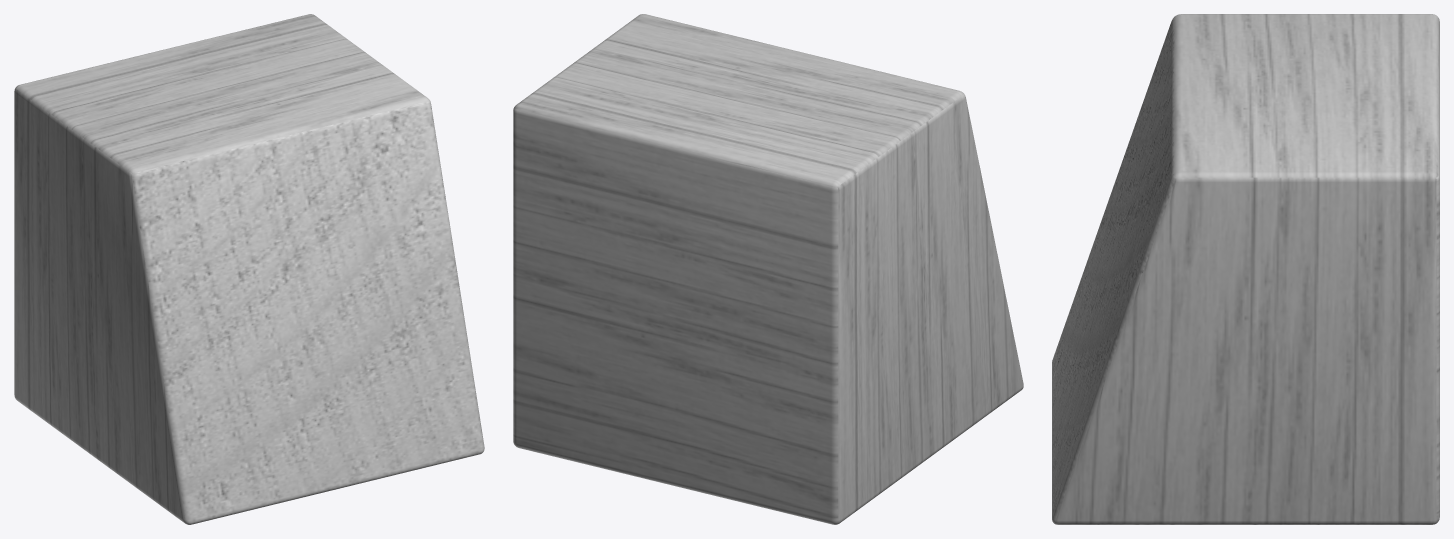
3 views of the same model, side by side, from view 1: azimuth 30°, elevation 25°; view 2: azimuth 150°, elevation 25°; view 3: azimuth 270°, elevation 25° (orthographic). The views are drawn at different scales.
Parts seen in each view (by area): view 1: Cubo_optimizado_Export 3.001; view 2: Cubo_optimizado_Export 3.001; view 3: Cubo_optimizado_Export 3.001.
Boxes of the visible parts, <box> form: Cubo_optimizado_Export 3.001: <box>14,14,484,524</box>; Cubo_optimizado_Export 3.001: <box>513,14,1023,524</box>; Cubo_optimizado_Export 3.001: <box>1052,14,1439,524</box>.
Size of the model in its own units: 2 by 2 by 2.
Materials: 1 (1 with a texture image).
